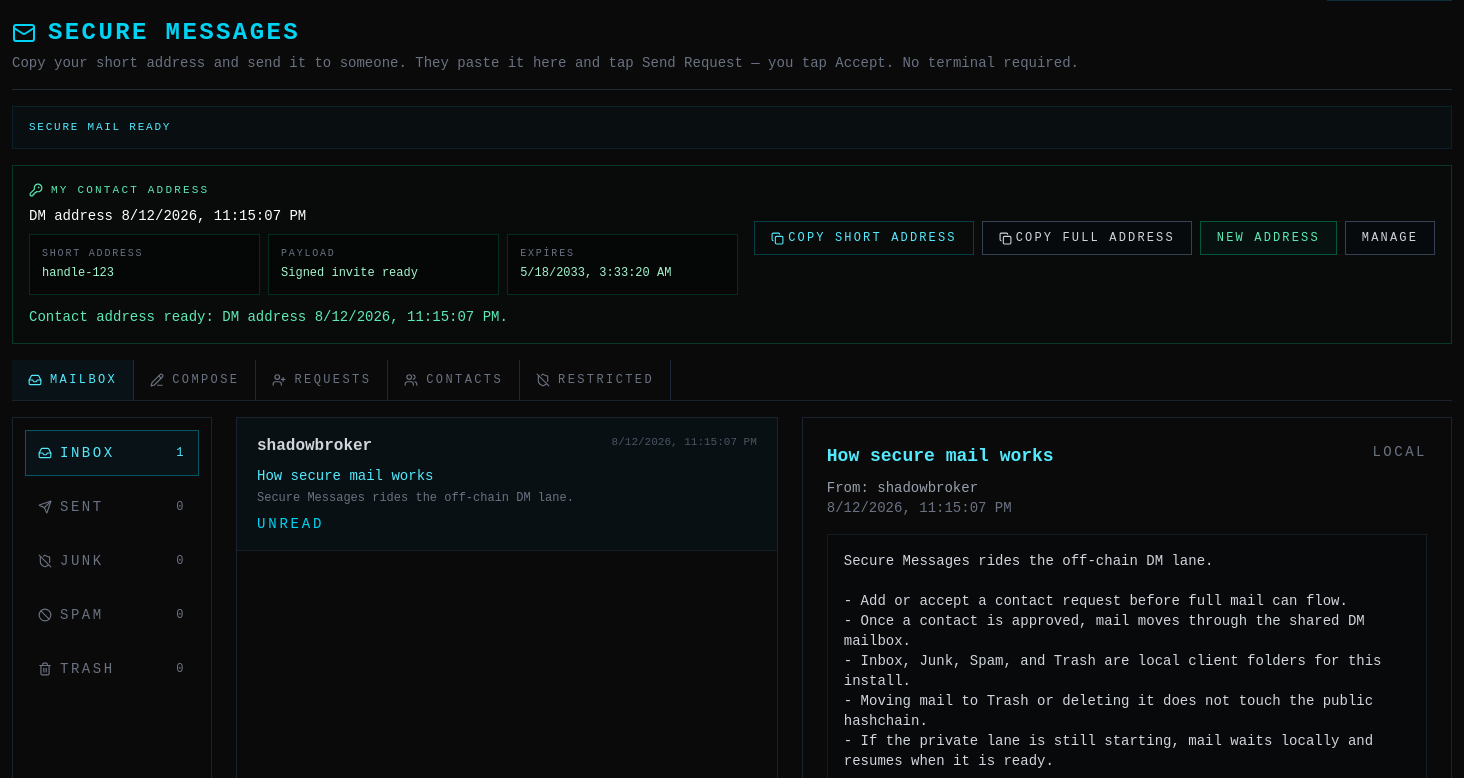
Test: MessagesView first-contact trust UX › does not advertise legacy handle-only addresses as copyable contact addresses
expect the text "Contact address ready: DM address 8/12/2026, 11:15:07 PM." is shown: met, box [29, 309, 508, 325]
Click the button "CONTACTS" at (454, 380), box [388, 360, 520, 400]
(page scrolled)
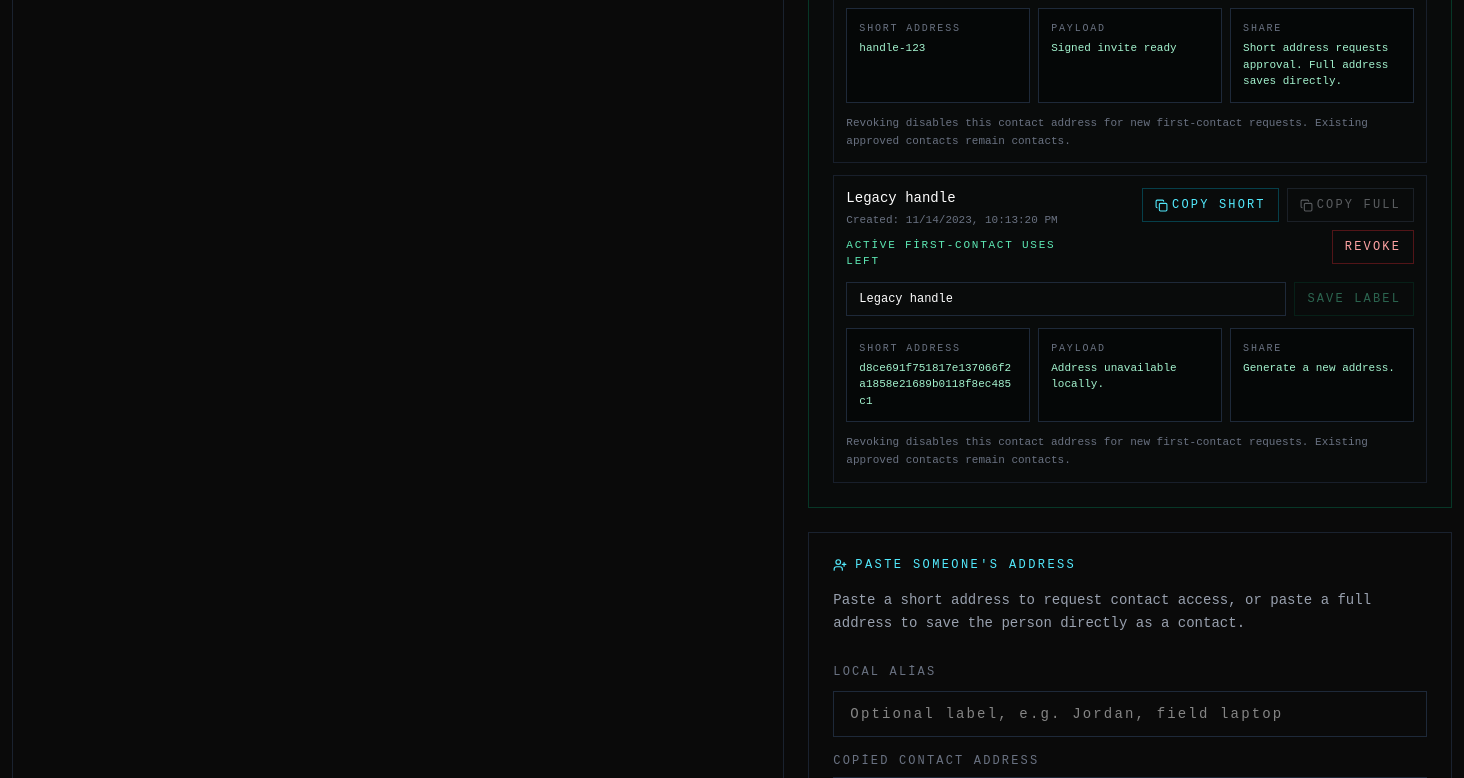
expect the text "Legacy handle" is shown: met, box [846, 190, 956, 206]
expect the text "Address unavailable locally." is shown: met, box [1051, 362, 1177, 390]
